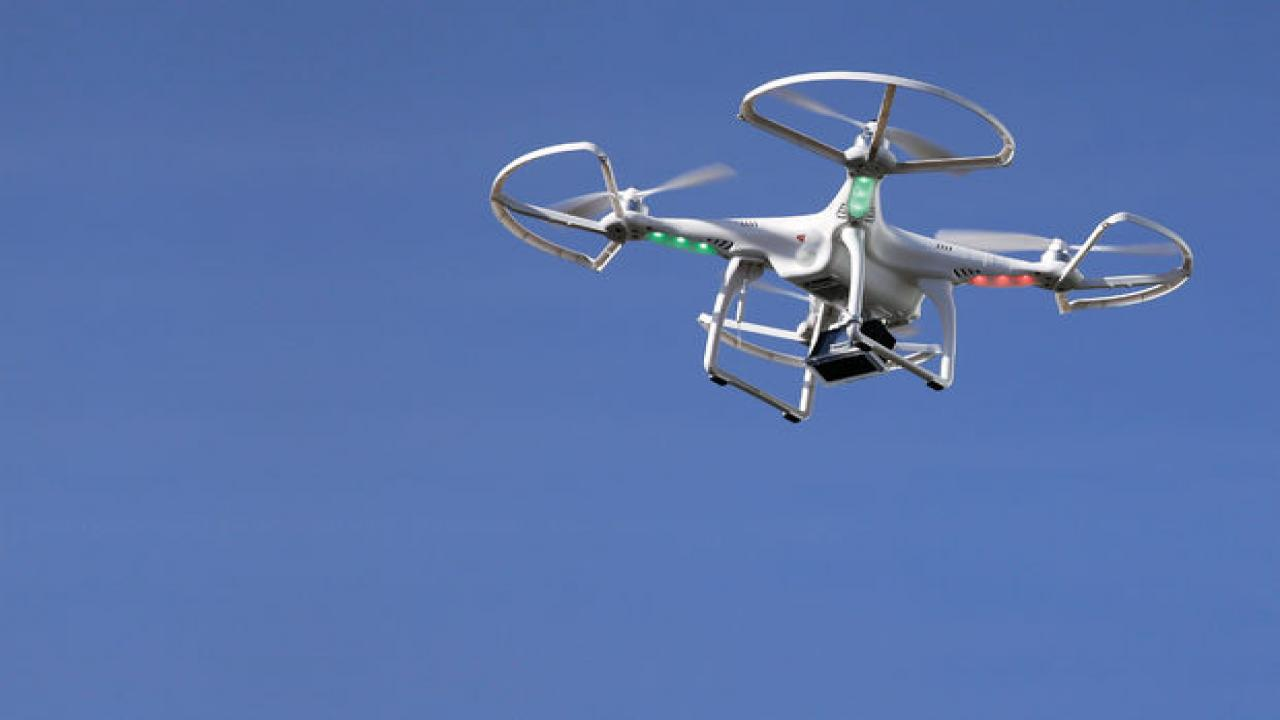Drone: (480, 57, 1200, 434)
